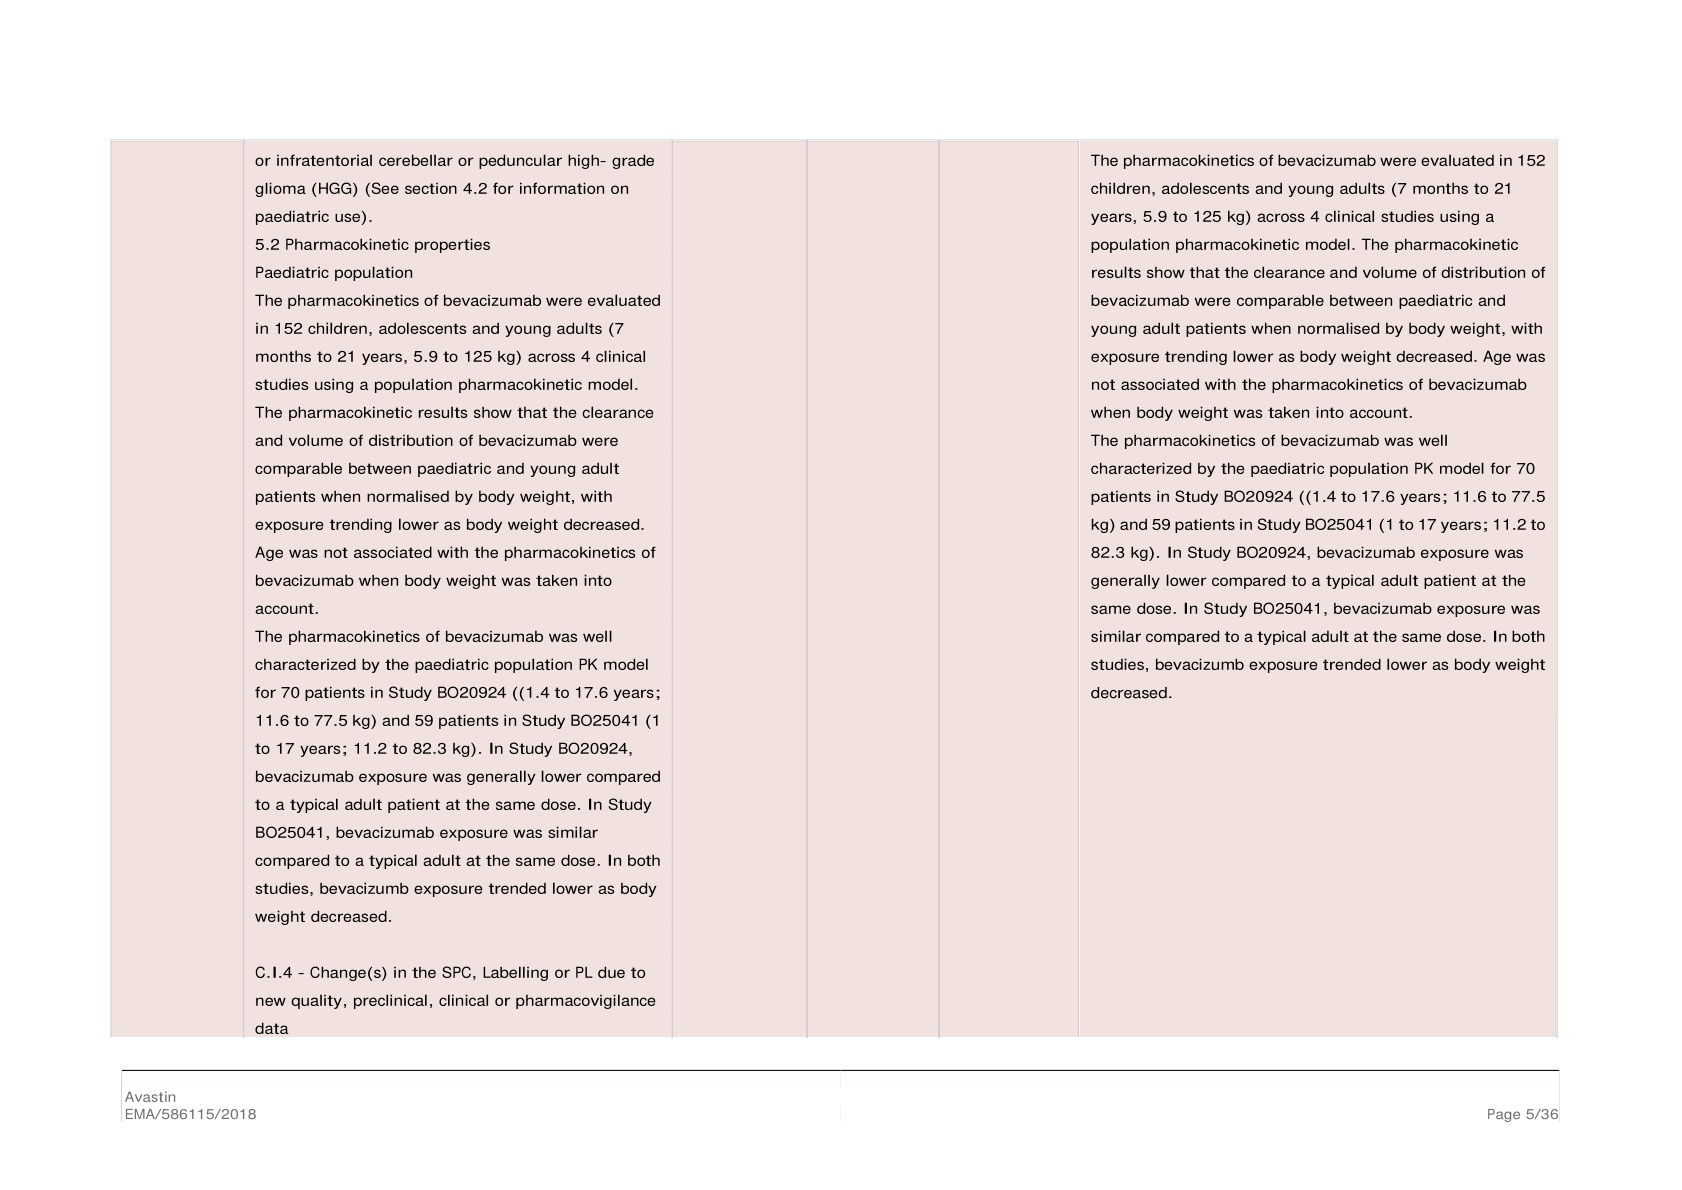full_lined: (109, 138, 1558, 1037)
